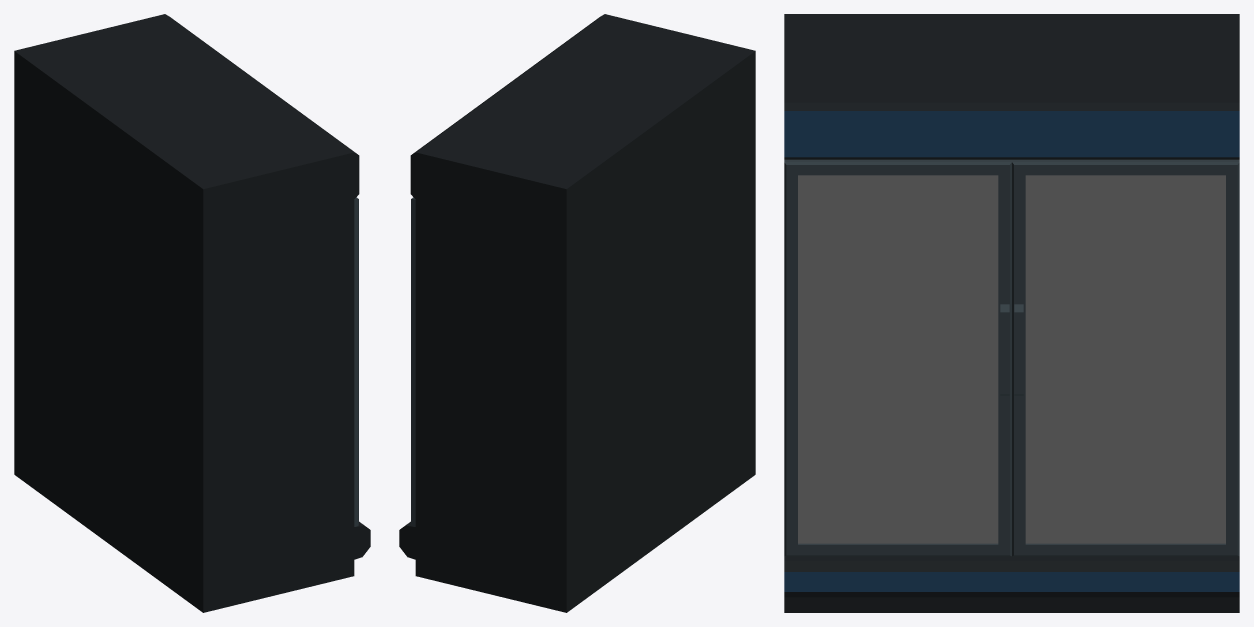
File: Freezer01.fbx
The picture shows the model from 3 angles, left to right: view 1: azimuth 30°, elevation 25°; view 2: azimuth 150°, elevation 25°; view 3: azimuth 270°, elevation 25°; orthographic projection. The views are drawn at different scales.
Visible parts, largest first — view 1: Freezer01, Freezer01DoorL; view 2: Freezer01, Freezer01DoorR; view 3: Freezer01, Freezer01DoorL, Freezer01DoorR.
Part boxes in pixels (<box>): Freezer01: <box>14,14,370,612</box>; Freezer01DoorL: <box>354,197,358,526</box>; Freezer01: <box>399,14,755,612</box>; Freezer01DoorR: <box>411,197,415,526</box>; Freezer01: <box>784,14,1239,612</box>; Freezer01DoorL: <box>784,159,1011,556</box>; Freezer01DoorR: <box>1012,159,1239,556</box>.
Bounding box in the file's own units: 101 × 243 × 197.
